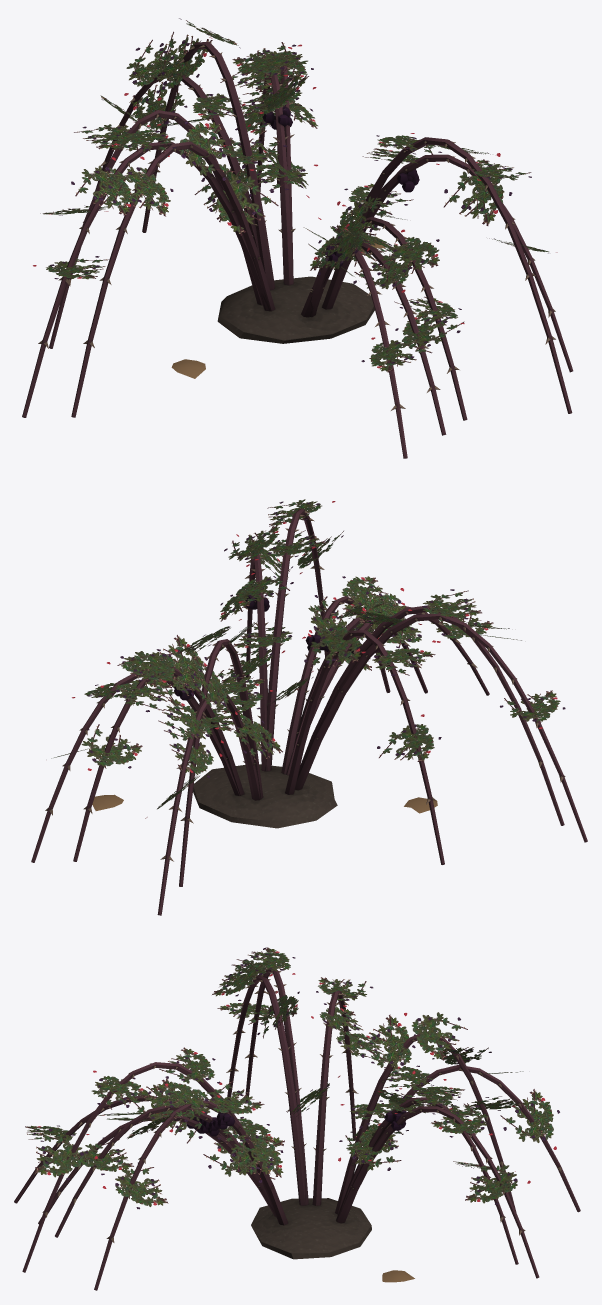
File: ThornBramble.fbx
The picture shows the model from 3 angles, top to bottom: view 1: azimuth 30°, elevation 25°; view 2: azimuth 150°, elevation 25°; view 3: azimuth 270°, elevation 25°; orthographic projection. The views are drawn at different scales.
Parts seen in each view (by area): view 1: ThornBramble_Main, ThornBramble_Leaves; view 2: ThornBramble_Main, ThornBramble_Leaves; view 3: ThornBramble_Leaves, ThornBramble_Main.
Part boxes in pixels (x1,y1,x2,y2): ThornBramble_Main: (22, 42, 573, 458); ThornBramble_Leaves: (33, 18, 557, 372); ThornBramble_Main: (31, 508, 587, 915); ThornBramble_Leaves: (51, 499, 565, 818); ThornBramble_Leaves: (25, 947, 559, 1209); ThornBramble_Main: (14, 968, 580, 1290).
Size of the model in its own units: 514 by 262 by 627.
